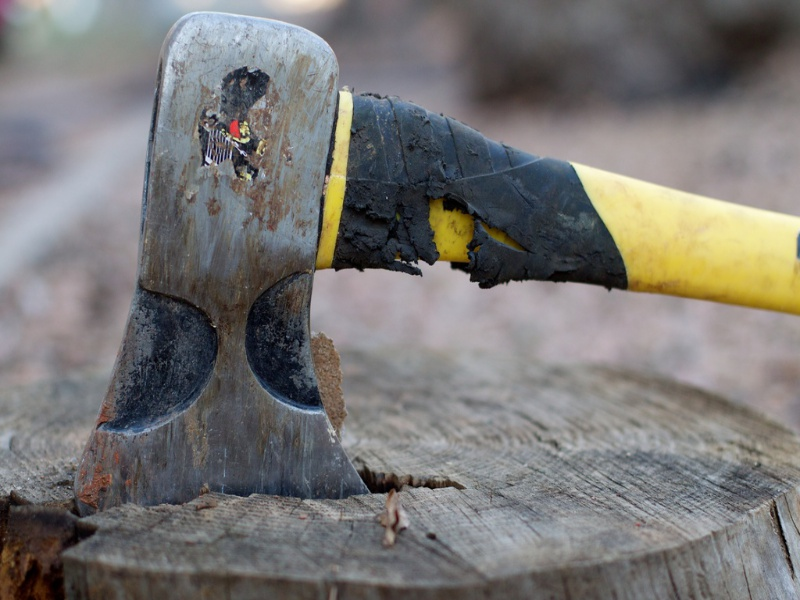axe: (70, 10, 569, 536)
dog: (69, 1, 665, 534)
